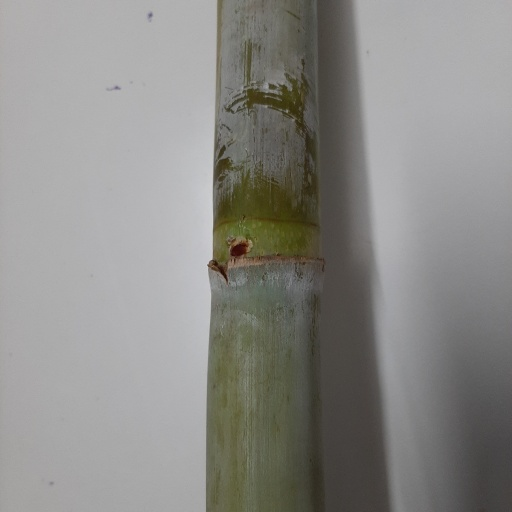Damage_Bud: (226, 236, 254, 259)
